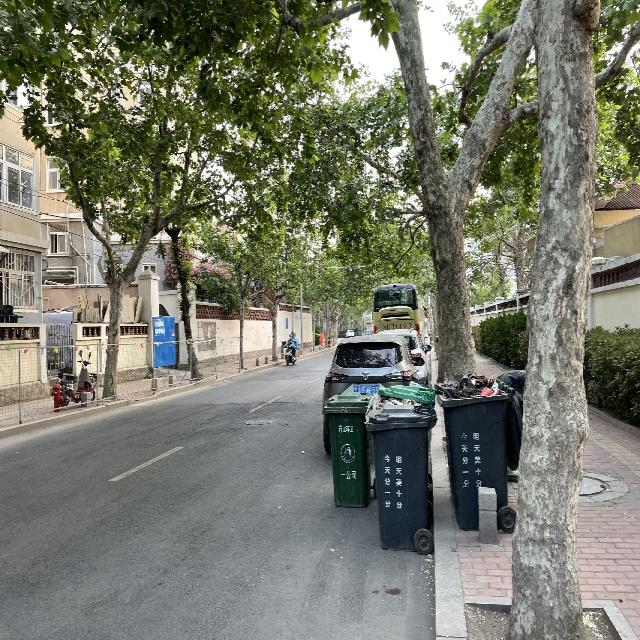garbage_bin: (322, 391, 370, 507)
overflow: (434, 373, 514, 530), (363, 384, 436, 548)
